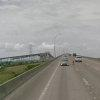Car: (56, 51, 72, 71)
